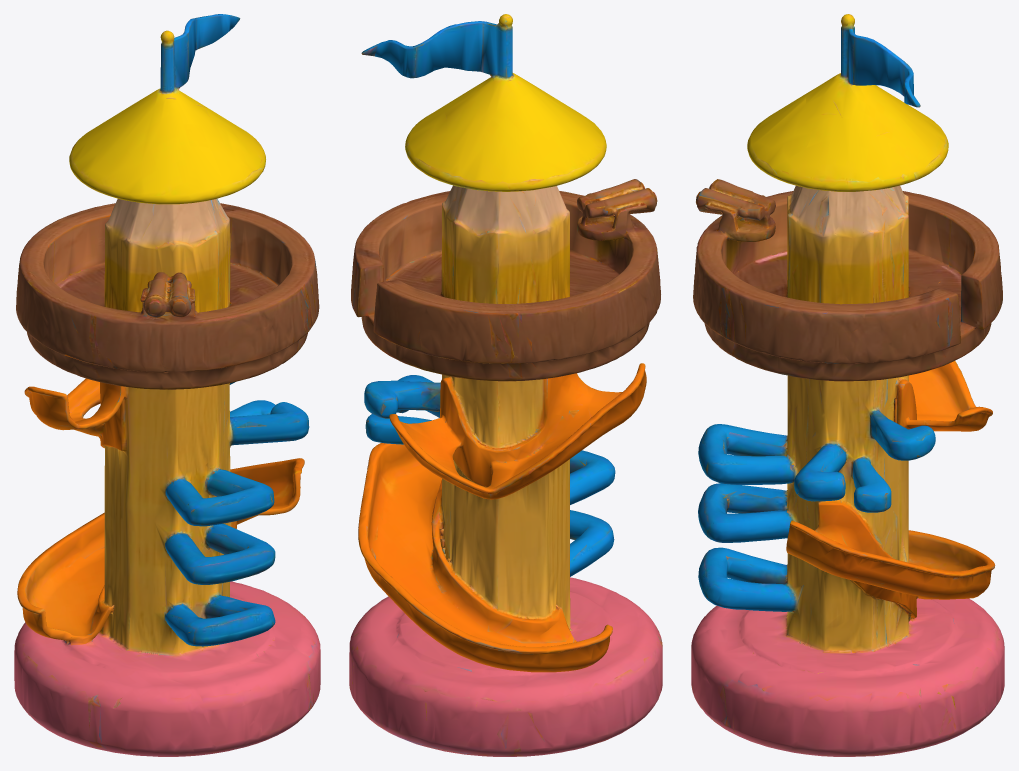
File: tower.glb
The picture shows the model from 3 angles, left to right: view 1: azimuth 30°, elevation 25°; view 2: azimuth 150°, elevation 25°; view 3: azimuth 270°, elevation 25°; orthographic projection. The views are drawn at different scales.
Visible parts, largest first — view 1: Mesh_0; view 2: Mesh_0; view 3: Mesh_0.
Boxes of the visible parts, <box> form: Mesh_0: <box>14,14,320,756</box>; Mesh_0: <box>349,14,662,756</box>; Mesh_0: <box>691,14,1004,756</box>.
Bounding box in the file's own units: 0.7965 × 1.91 × 0.7969.
1 material, 1 textured.
